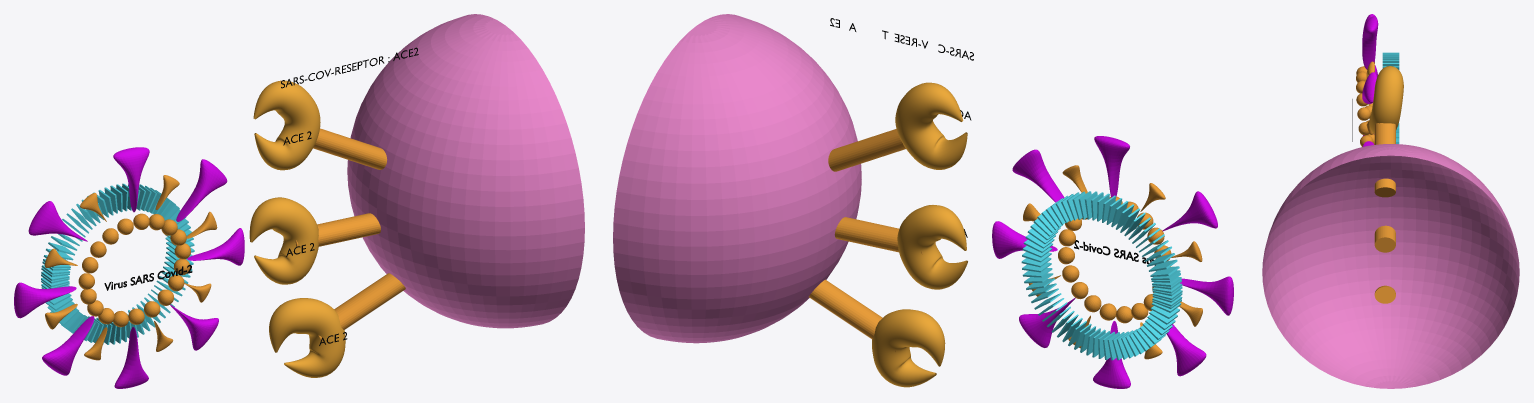
The model's file is finalcovid.glb.
3 renders of one model, left to right at view 1: azimuth 30°, elevation 25°; view 2: azimuth 150°, elevation 25°; view 3: azimuth 270°, elevation 25°, orthographic. The views are drawn at different scales.
Parts seen in each view (by area): view 1: Sphere.001, Cube.017, Sphere, NurbsPath.012, NurbsPath.013, NurbsPath.014, Cylinder.014, Cylinder.016, Cylinder.015, Cube.007, Cube.004, Cube.005 (+6 smaller); view 2: Sphere.001, Cube.017, NurbsPath.014, NurbsPath.013, NurbsPath.012, Sphere, Cylinder.014, Cylinder.016, Cylinder.015, Cube.005, Cube.022, Cube.004 (+5 smaller); view 3: Sphere.001, NurbsPath.014, Cylinder.016, Sphere, Cube.022, Cylinder.015, Cube.017, Cube.005, Cylinder.014.
Boxes of the visible parts, bbox=[...] form: Sphere.001: bbox=[347, 14, 584, 328]; Cube.017: bbox=[41, 183, 194, 344]; Sphere: bbox=[78, 213, 190, 327]; NurbsPath.012: bbox=[269, 298, 345, 377]; NurbsPath.013: bbox=[249, 197, 318, 284]; NurbsPath.014: bbox=[253, 80, 320, 170]; Cylinder.014: bbox=[318, 273, 405, 341]; Cylinder.016: bbox=[313, 128, 387, 169]; Cylinder.015: bbox=[295, 213, 380, 246]; Cube.007: bbox=[42, 316, 94, 375]; Cube.004: bbox=[14, 282, 76, 318]; Cube.005: bbox=[176, 159, 227, 221]; Sphere.001: bbox=[613, 14, 861, 343]; Cube.017: bbox=[1021, 191, 1182, 360]; NurbsPath.014: bbox=[895, 82, 967, 169]; NurbsPath.013: bbox=[897, 205, 967, 289]; NurbsPath.012: bbox=[872, 309, 945, 387]; Sphere: bbox=[1058, 196, 1171, 323]; Cylinder.014: bbox=[809, 279, 896, 351]; Cylinder.016: bbox=[828, 129, 905, 171]; Cylinder.015: bbox=[834, 217, 935, 253]; Cube.005: bbox=[1012, 149, 1064, 202]; Cube.022: bbox=[1094, 136, 1129, 197]; Cube.004: bbox=[1180, 276, 1233, 315]; Sphere.001: bbox=[1262, 144, 1519, 388]; NurbsPath.014: bbox=[1369, 66, 1403, 133]; Cylinder.016: bbox=[1374, 123, 1395, 197]; Sphere: bbox=[1356, 66, 1374, 146]; Cube.022: bbox=[1362, 16, 1378, 69]; Cylinder.015: bbox=[1374, 225, 1395, 252]; Cube.017: bbox=[1382, 52, 1399, 143]; Cube.005: bbox=[1362, 72, 1377, 103]; Cylinder.014: bbox=[1374, 285, 1395, 303].
Bounding box in the file's own units: 8.84 × 5.39 × 4.87.
